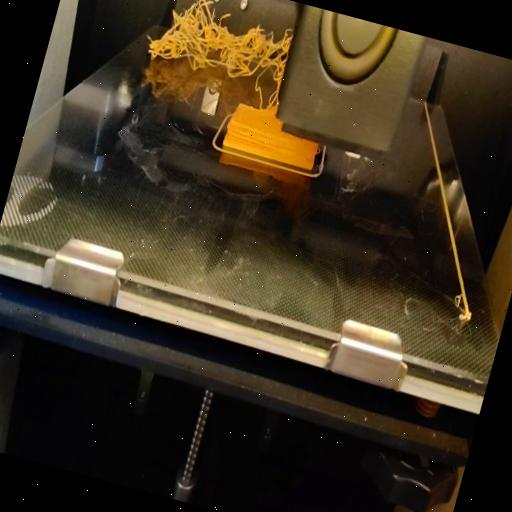spaghetti: (136, 0, 297, 114)
